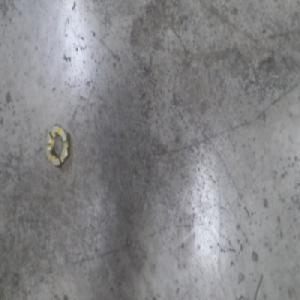Nut: (43, 120, 71, 168)
